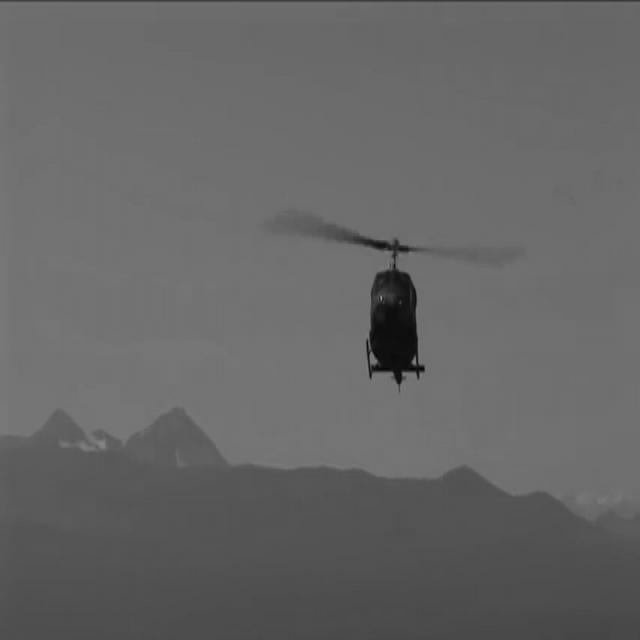helikopter: (306, 212, 500, 410)
